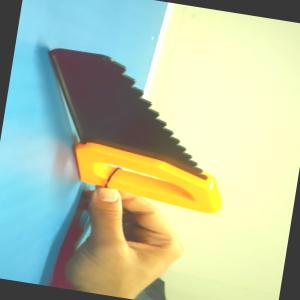serrote: (27, 43, 244, 216)
